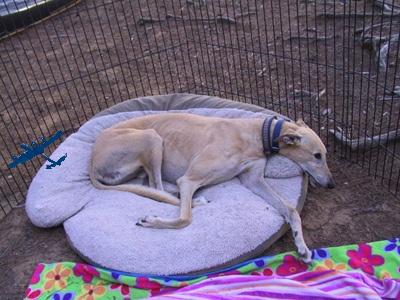tampered: (9, 131, 67, 169)
